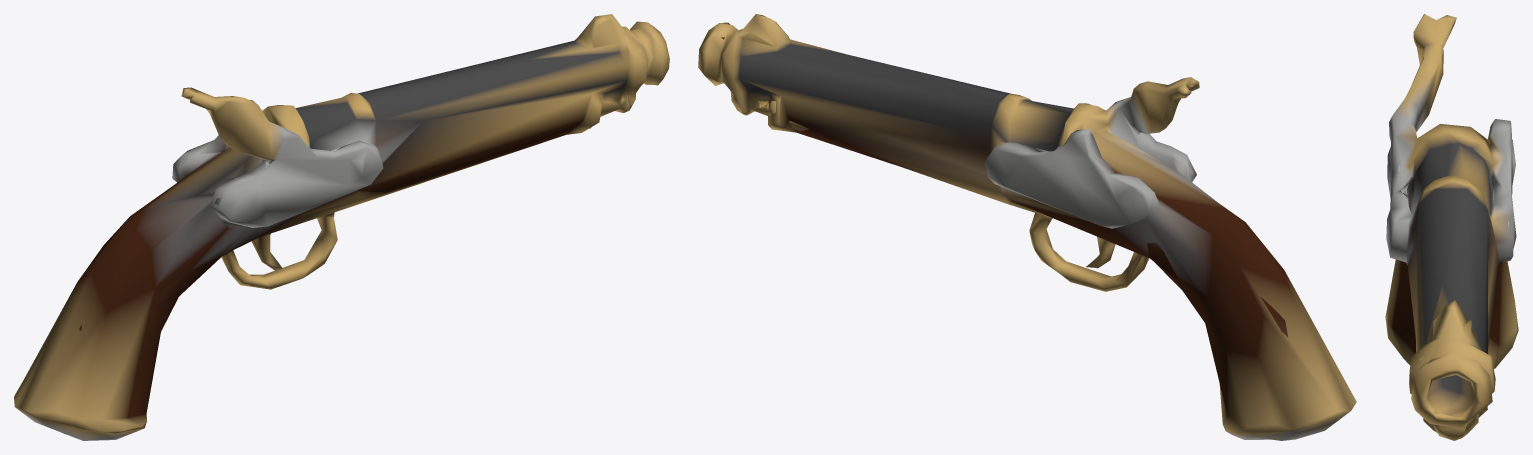
Rendered from gen3d-flintlock-pistol-lod1.glb.
The picture shows the model from 3 angles, left to right: view 1: azimuth 30°, elevation 25°; view 2: azimuth 150°, elevation 25°; view 3: azimuth 270°, elevation 25°; orthographic projection. The views are drawn at different scales.
Parts seen in each view (by area): view 1: part_0; view 2: part_0; view 3: part_0.
Part boxes in pixels (bbox=[...]): part_0: bbox=[14, 14, 669, 440]; part_0: bbox=[698, 14, 1356, 440]; part_0: bbox=[1385, 14, 1518, 440].
Bounding box in the file's own units: 2.03 × 0.9914 × 0.2948.
